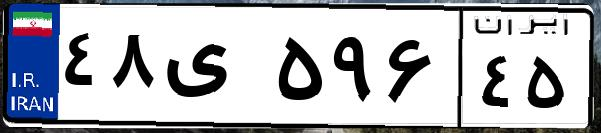4: (57, 26, 110, 100), (475, 38, 525, 113)
5: (270, 28, 330, 110), (525, 38, 570, 115)
6: (385, 28, 445, 110)
8: (110, 28, 158, 98)
9: (330, 28, 385, 110)
ی: (158, 20, 270, 120)
